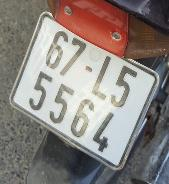4: (88, 107, 126, 157)
5: (107, 62, 142, 112), (44, 79, 79, 128), (24, 67, 57, 115)
6: (66, 94, 100, 142), (41, 27, 73, 73)
7: (56, 35, 90, 78)
L: (87, 52, 123, 105)
